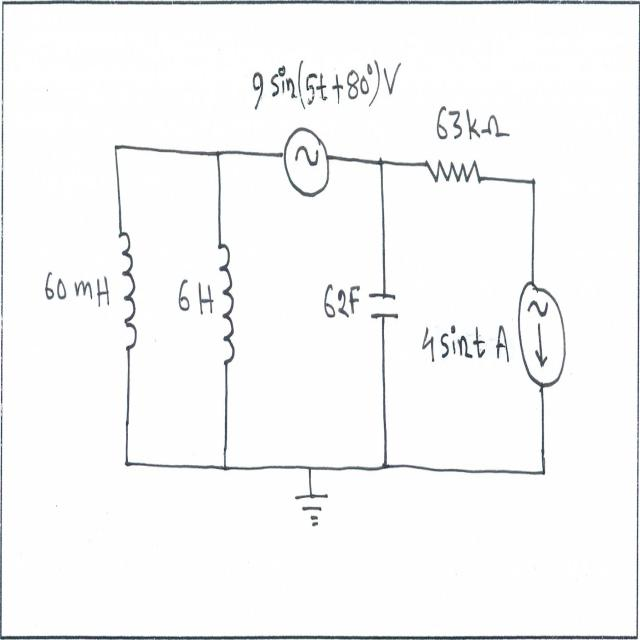ac_current: (280, 119, 332, 206)
capacitor: (369, 276, 406, 340)
current_source: (514, 270, 568, 394)
ground: (290, 487, 334, 533)
inductor: (212, 237, 240, 374), (116, 222, 140, 367)
resistor: (422, 152, 490, 198)
